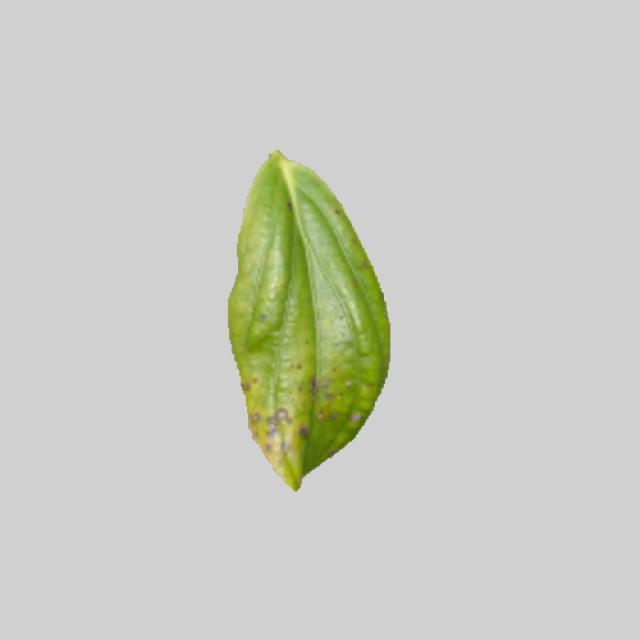yellow-mottle-virus: (211, 145, 401, 490)
